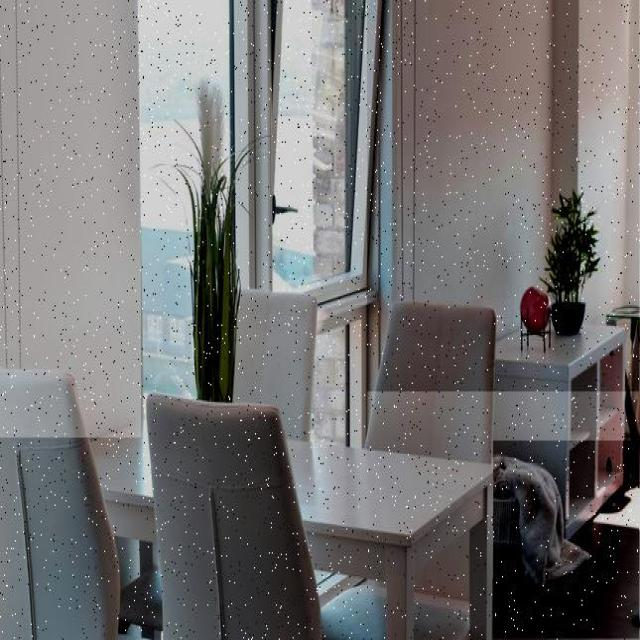Wall: (368, 0, 640, 391), (0, 0, 141, 438), (494, 443, 639, 639)
